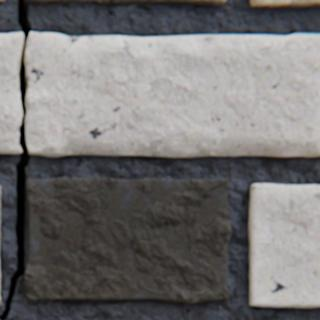brick: (23, 177, 230, 304), (247, 184, 319, 308), (24, 0, 225, 7), (249, 0, 319, 8), (0, 186, 1, 231), (0, 271, 1, 292)
broken_brick: (25, 33, 319, 158), (0, 34, 22, 154)
crack: (0, 0, 30, 319)
